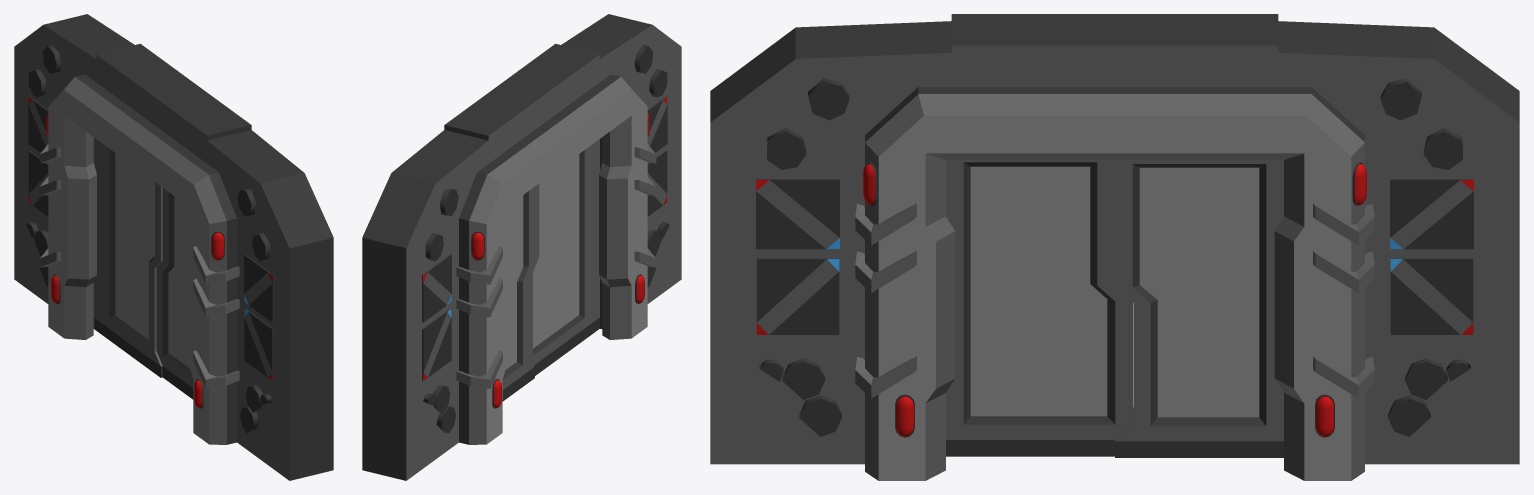
Rendered from SciFi_Door.fbx.
3 renders of one model, left to right at view 1: azimuth 30°, elevation 25°; view 2: azimuth 150°, elevation 25°; view 3: azimuth 270°, elevation 25°, orthographic. The views are drawn at different scales.
Parts seen in each view (by area): view 1: SciFi_Door, SciFi_Door_Right, SciFi_Door_Left; view 2: SciFi_Door, SciFi_Door_Left, SciFi_Door_Right; view 3: SciFi_Door, SciFi_Door_Left, SciFi_Door_Right.
Part boxes in pixels (box(x1,y1,x2,y2)): SciFi_Door: box(14, 14, 333, 480); SciFi_Door_Right: box(94, 138, 162, 377); SciFi_Door_Left: box(156, 188, 193, 399); SciFi_Door: box(362, 14, 681, 480); SciFi_Door_Left: box(529, 139, 599, 375); SciFi_Door_Right: box(502, 186, 534, 401); SciFi_Door: box(710, 14, 1519, 480); SciFi_Door_Left: box(946, 160, 1132, 456); SciFi_Door_Right: box(1115, 160, 1283, 457).
Bounding box in the file's own units: 140 × 373 × 654.
